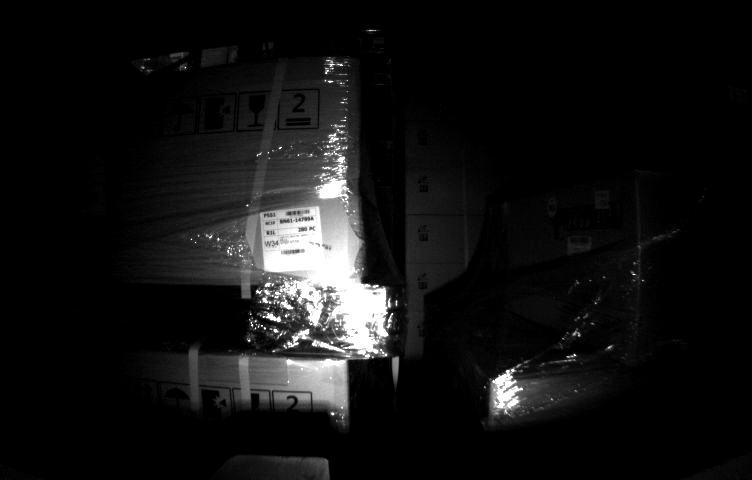True Barcode: (260, 205, 324, 271)
